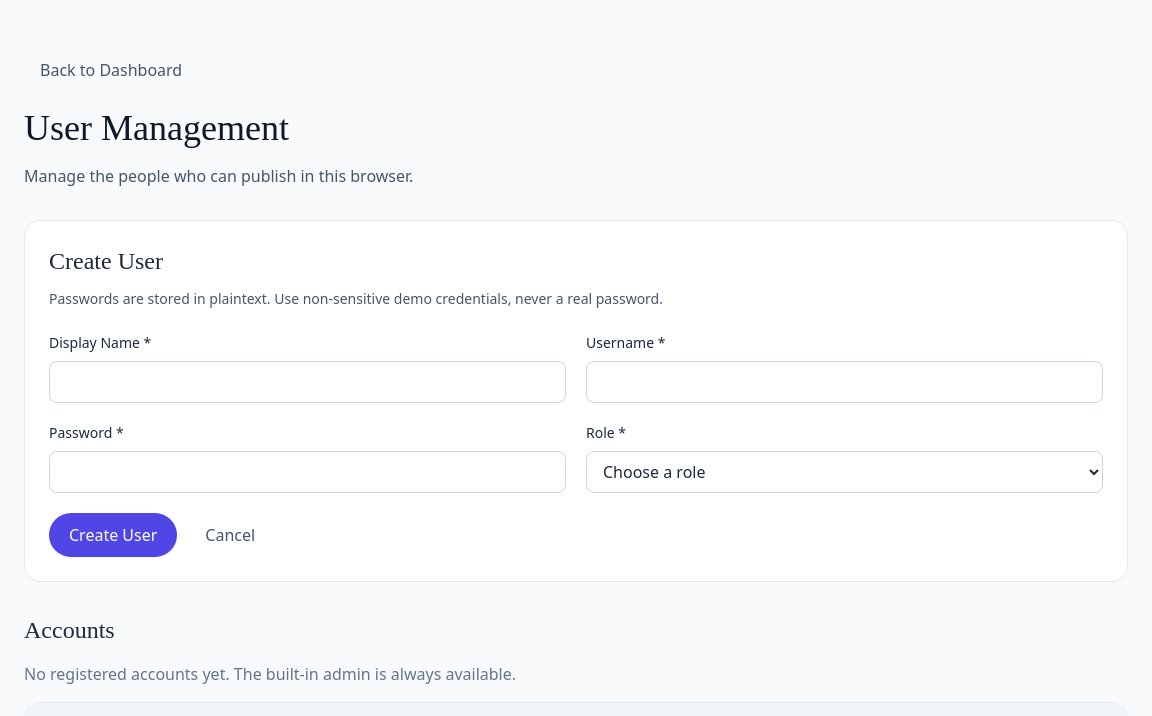
UserManagement › creates user account, requeries actual accounts and clears draft with success
Type "New Account" into the field labelled "Display Name *" at (308, 382), box [49, 361, 566, 403]
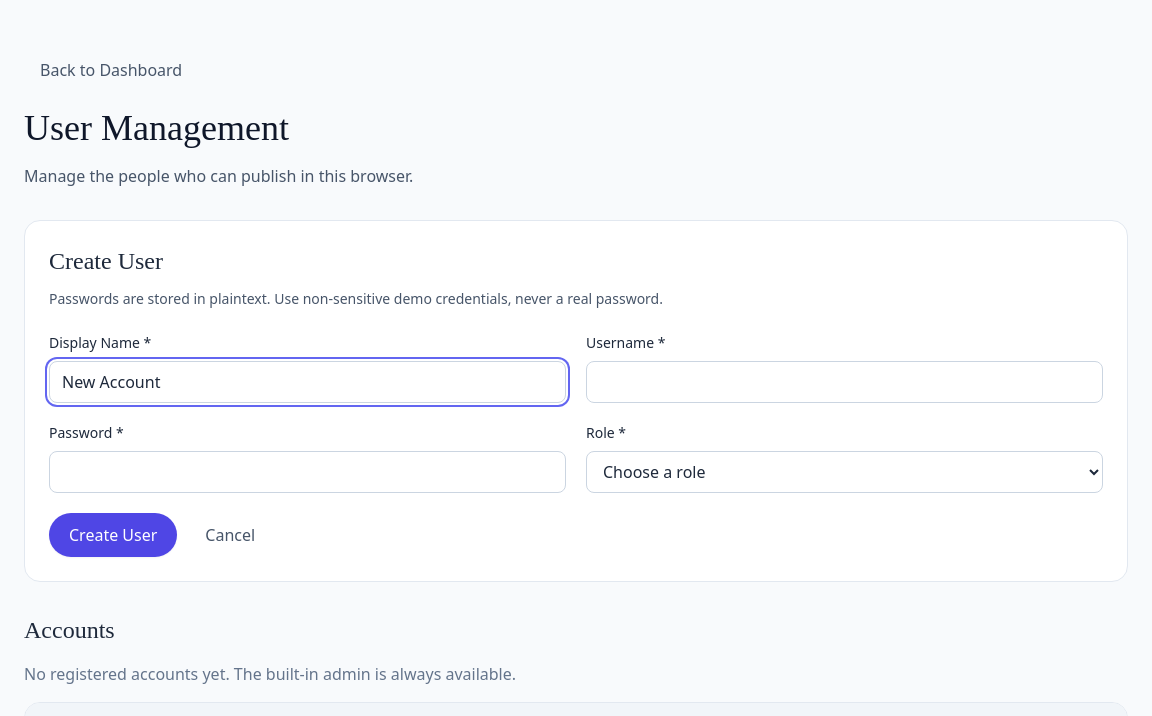
Type "new-account" into the field labelled "Username *" at (844, 382), box [586, 361, 1103, 403]
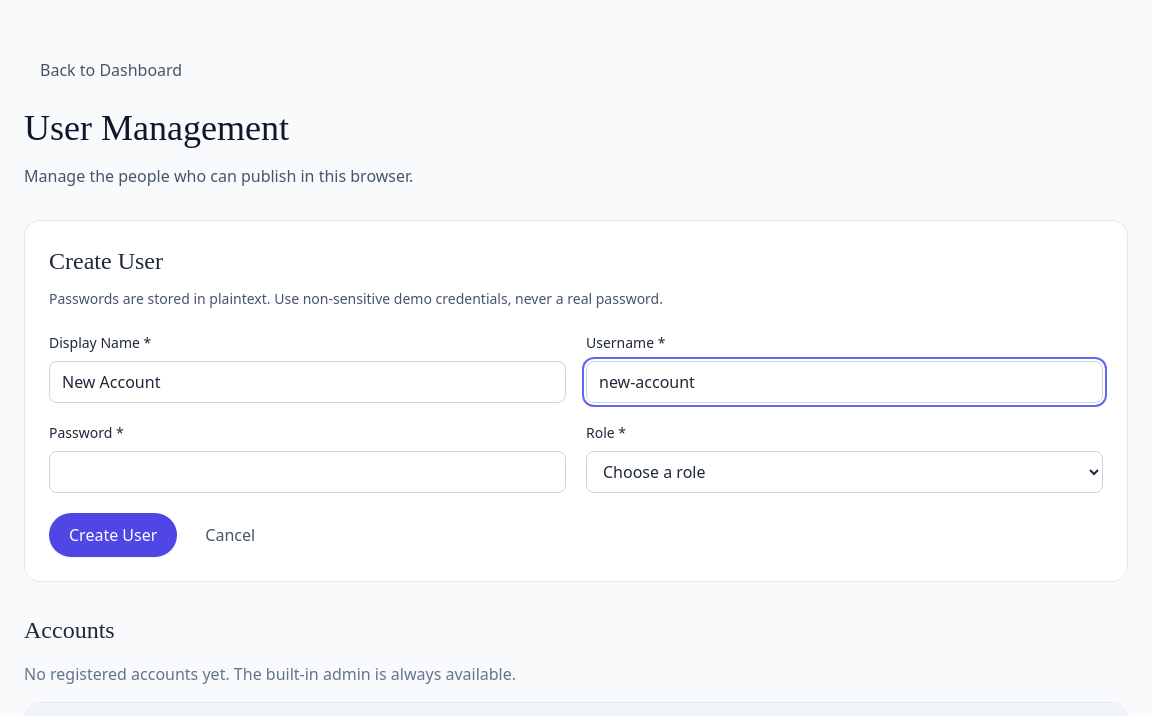
Type "dummy-only" into the password field labelled "Password *" at (308, 472), box [49, 451, 566, 493]
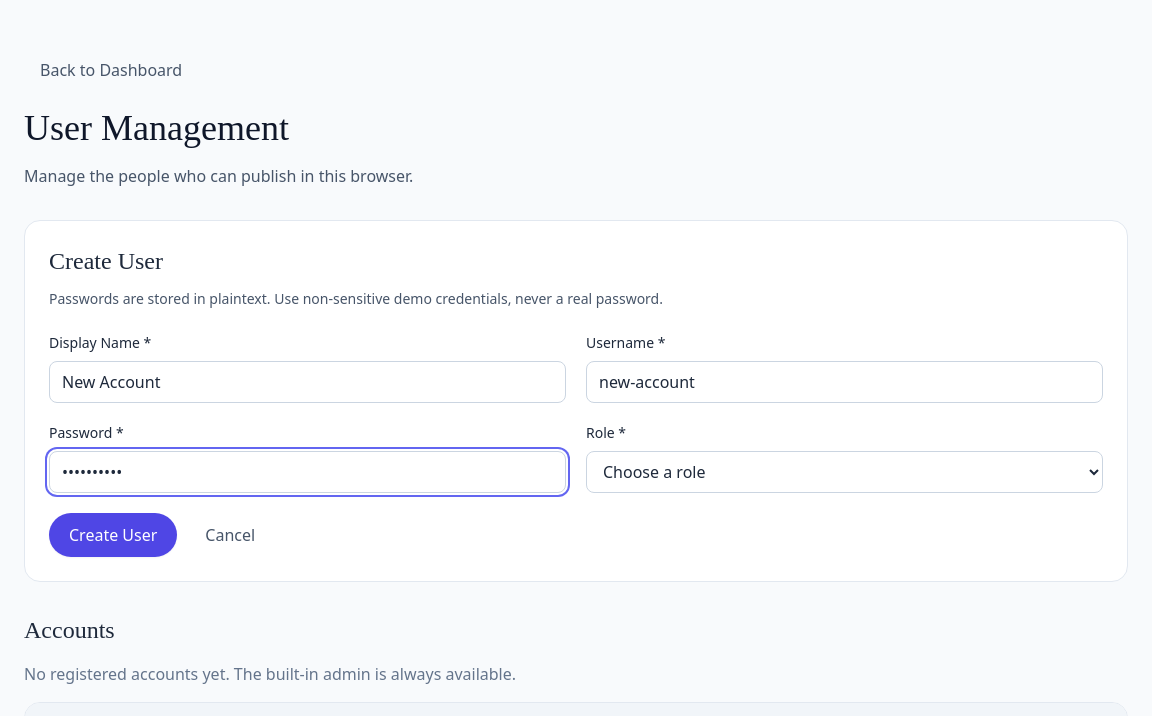
Select "user" in the dropdown labelled "Role *" at (844, 472), box [586, 451, 1103, 493]
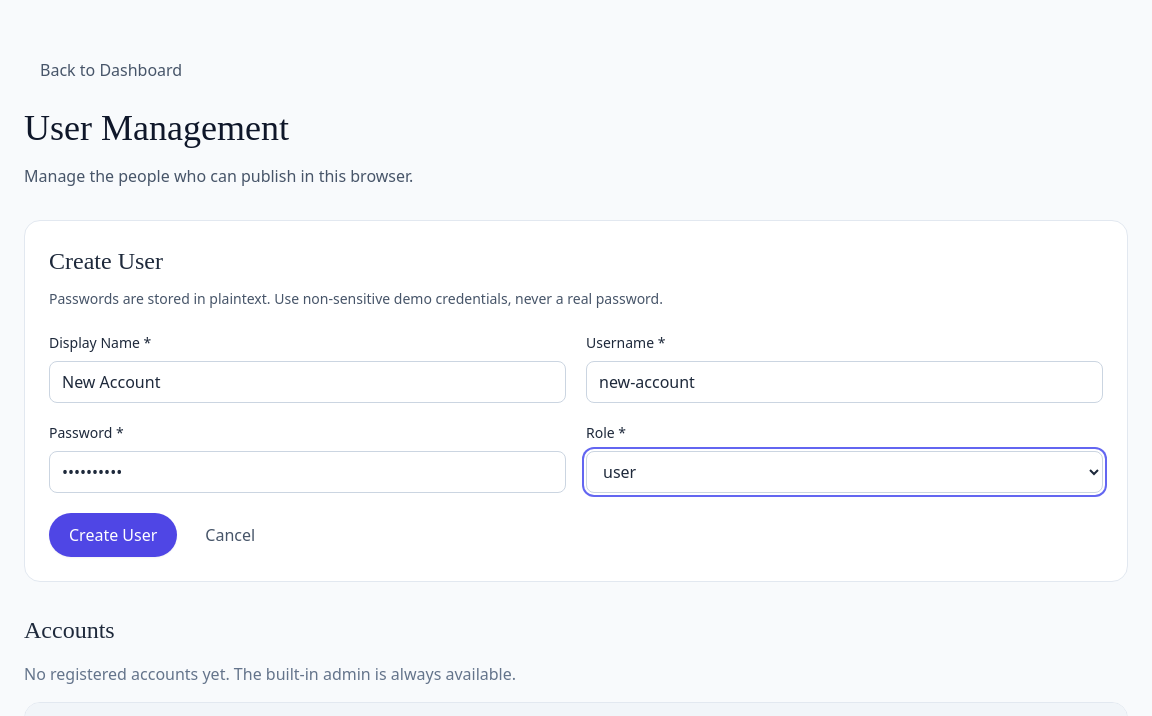
Click the button "Create User" at (113, 535), box [49, 513, 177, 557]
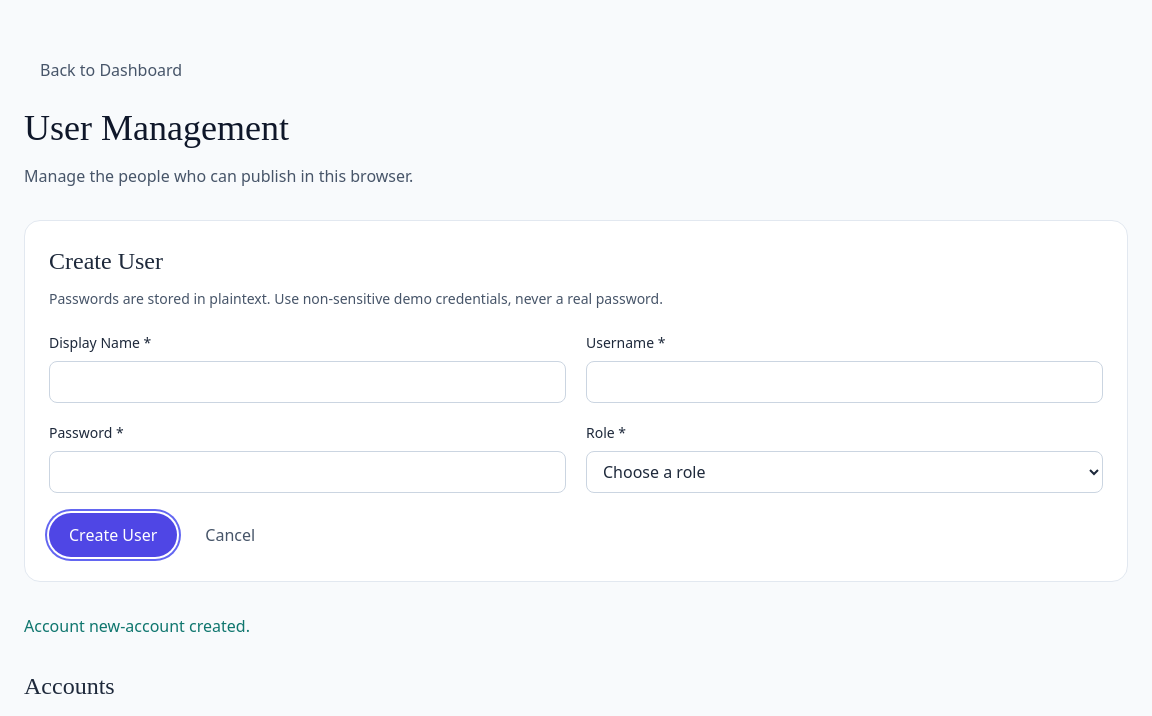
Now the message reads "Account new-account created.", box [24, 615, 250, 637]
Now the field labelled "Username *" is empty, box [586, 361, 1103, 403]
